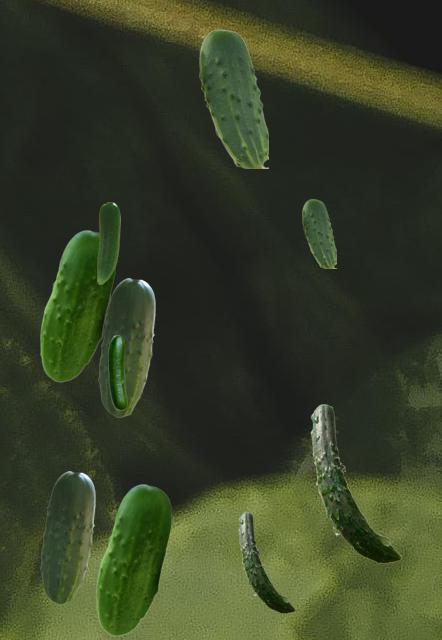cucumber: (310, 404, 400, 562), (96, 484, 170, 635), (40, 230, 114, 381), (199, 29, 267, 167), (98, 278, 154, 416), (40, 471, 94, 603), (238, 512, 294, 612), (302, 199, 335, 267), (97, 202, 119, 283), (108, 335, 126, 409)
